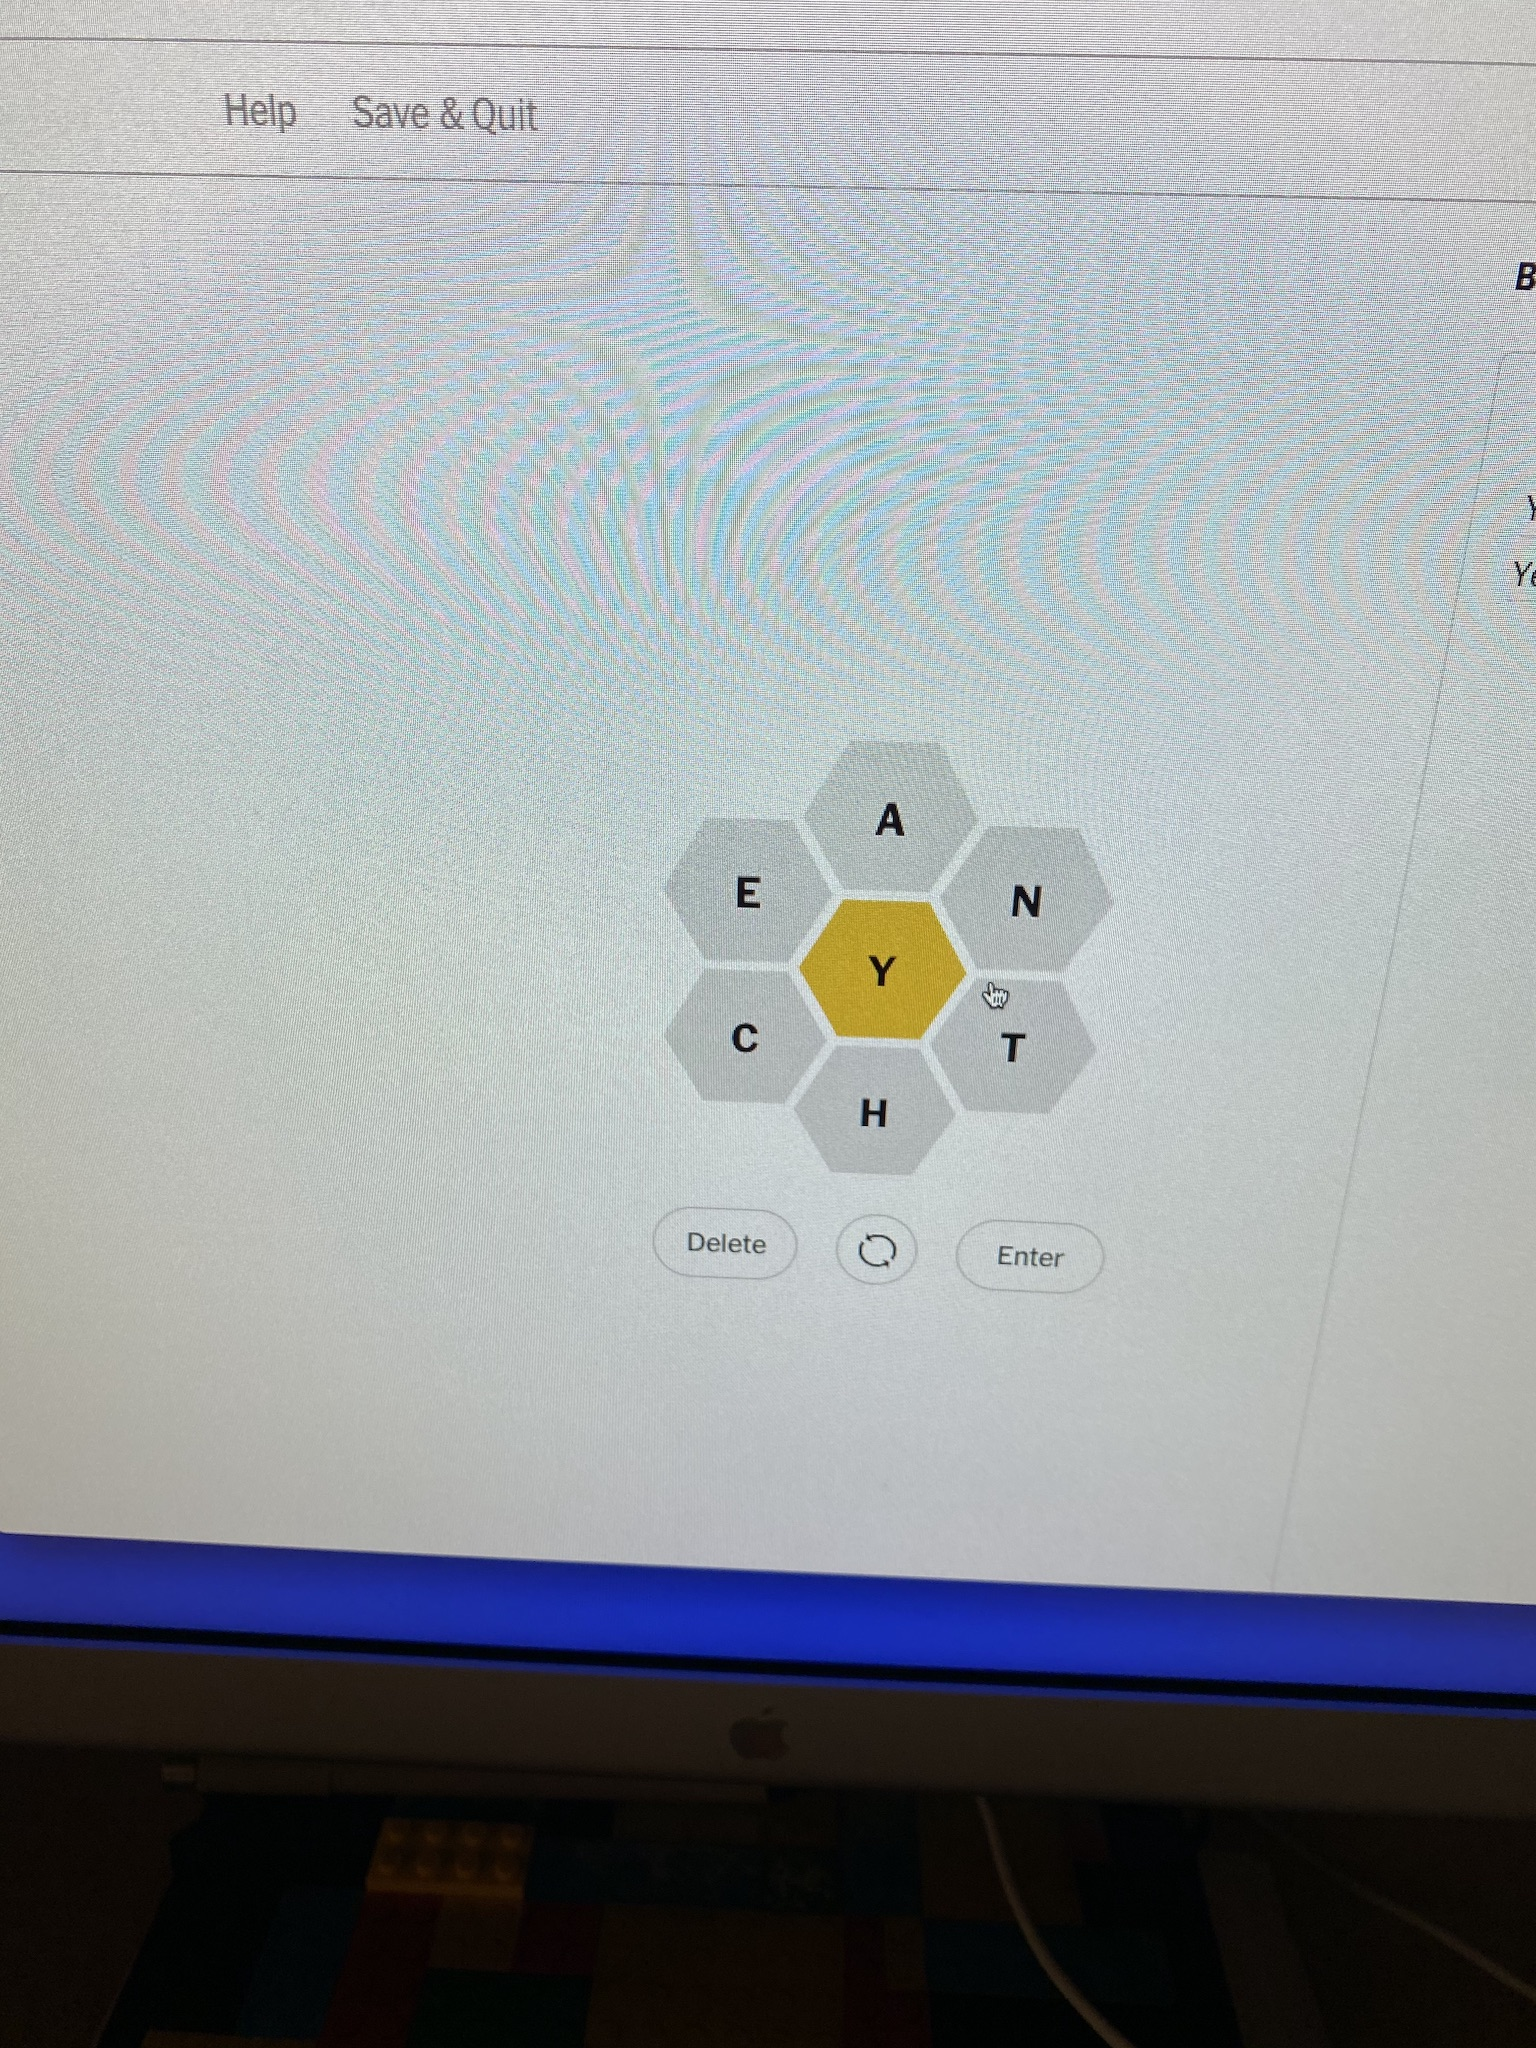Board: (649, 727, 1136, 1198)
